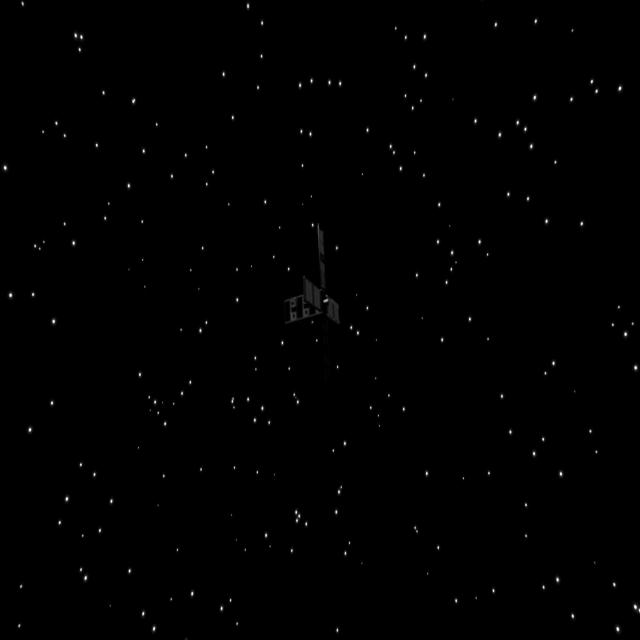satellite: (284, 227, 389, 342)
